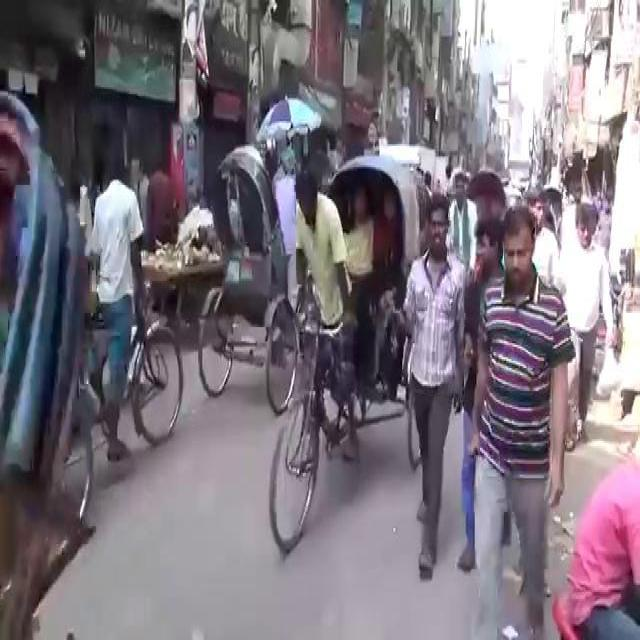pickup: (374, 142, 436, 178)
rickshaw: (256, 153, 428, 558), (0, 84, 82, 634), (90, 148, 186, 460), (196, 140, 302, 418), (462, 152, 506, 239)
